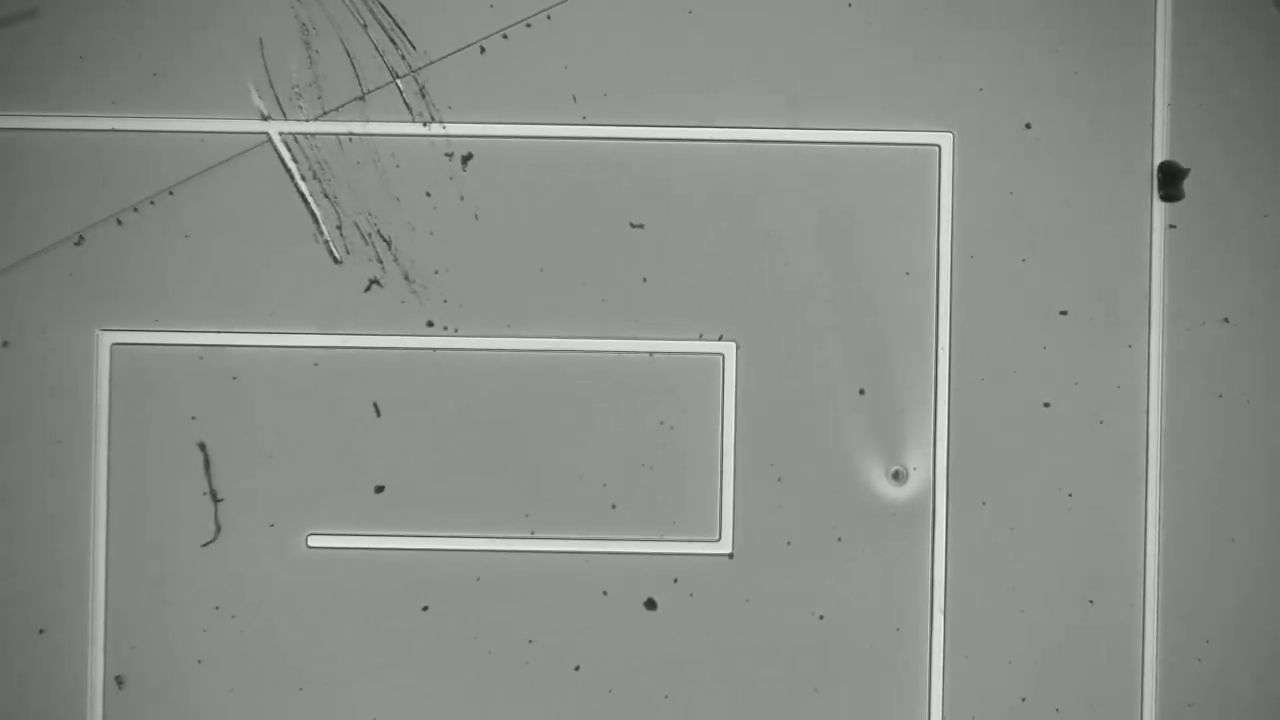scratch: (10, 10, 562, 257), (236, 4, 504, 298), (257, 45, 348, 222), (247, 99, 339, 260), (372, 7, 456, 141), (349, 7, 419, 126)
stains_enbedded: (1138, 148, 1198, 222)
